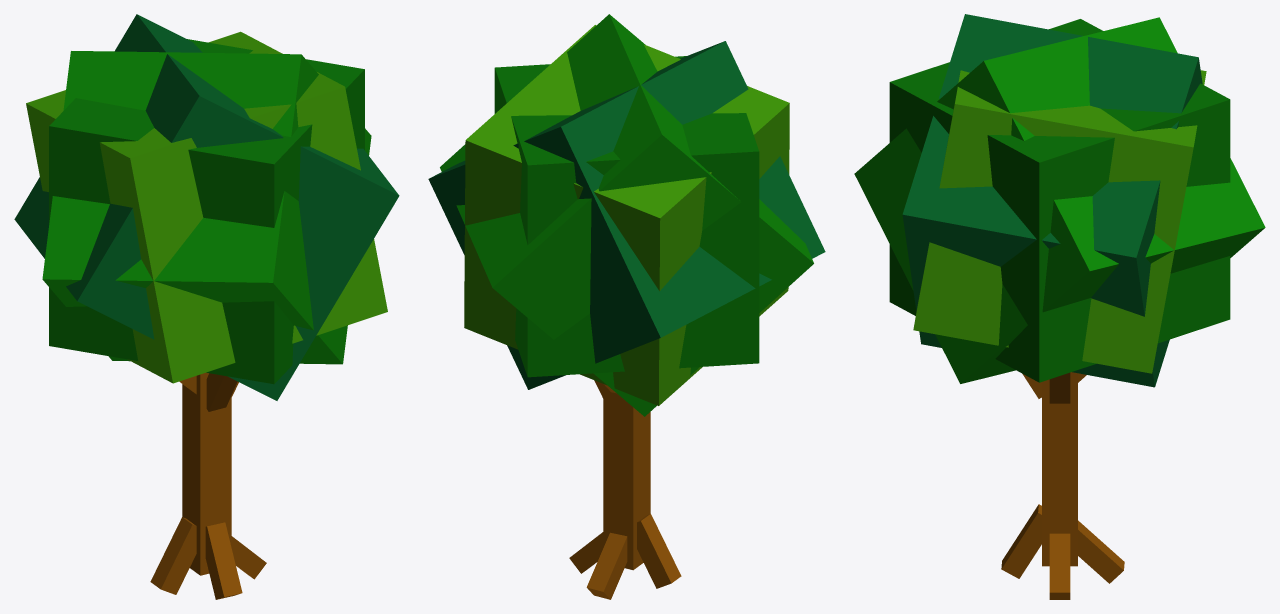
File: tree.fbx
3 views of the same model, side by side, from view 1: azimuth 30°, elevation 25°; view 2: azimuth 150°, elevation 25°; view 3: azimuth 270°, elevation 25° (orthographic). The views are drawn at different scales.
Visible parts, largest first — view 1: Cube, Cube.005; view 2: Cube, Cube.005; view 3: Cube, Cube.005.
Boxes of the visible parts, box(x1,y1,x2,y2) form: Cube: box(14, 14, 399, 400); Cube.005: box(150, 372, 266, 599); Cube: box(428, 14, 825, 416); Cube.005: box(569, 380, 681, 599); Cube: box(854, 14, 1265, 387); Cube.005: box(1001, 372, 1124, 599).
Bounding box in the file's own units: 1843 × 2678 × 1829.
